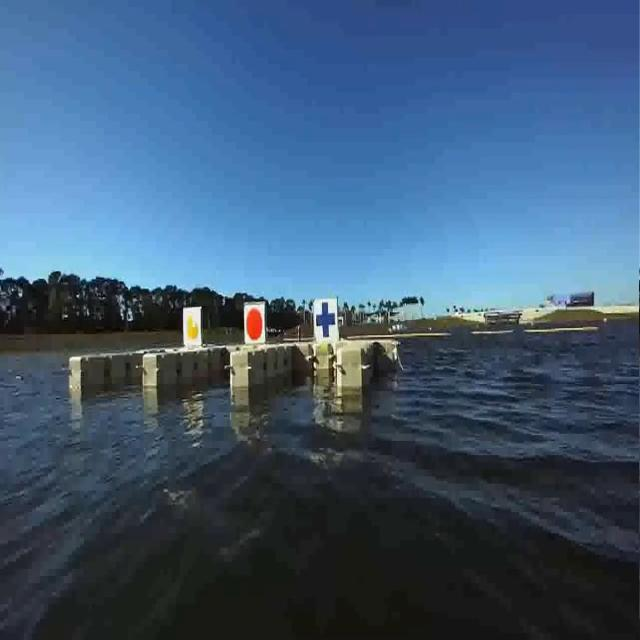blue-cross: (312, 293, 344, 346)
red-dot: (240, 298, 266, 348)
yellow-duck: (180, 294, 203, 349)
